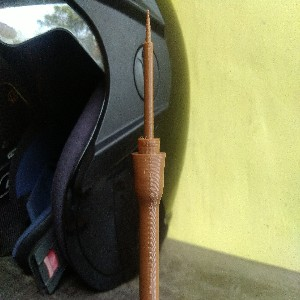solder: (130, 8, 167, 300)
